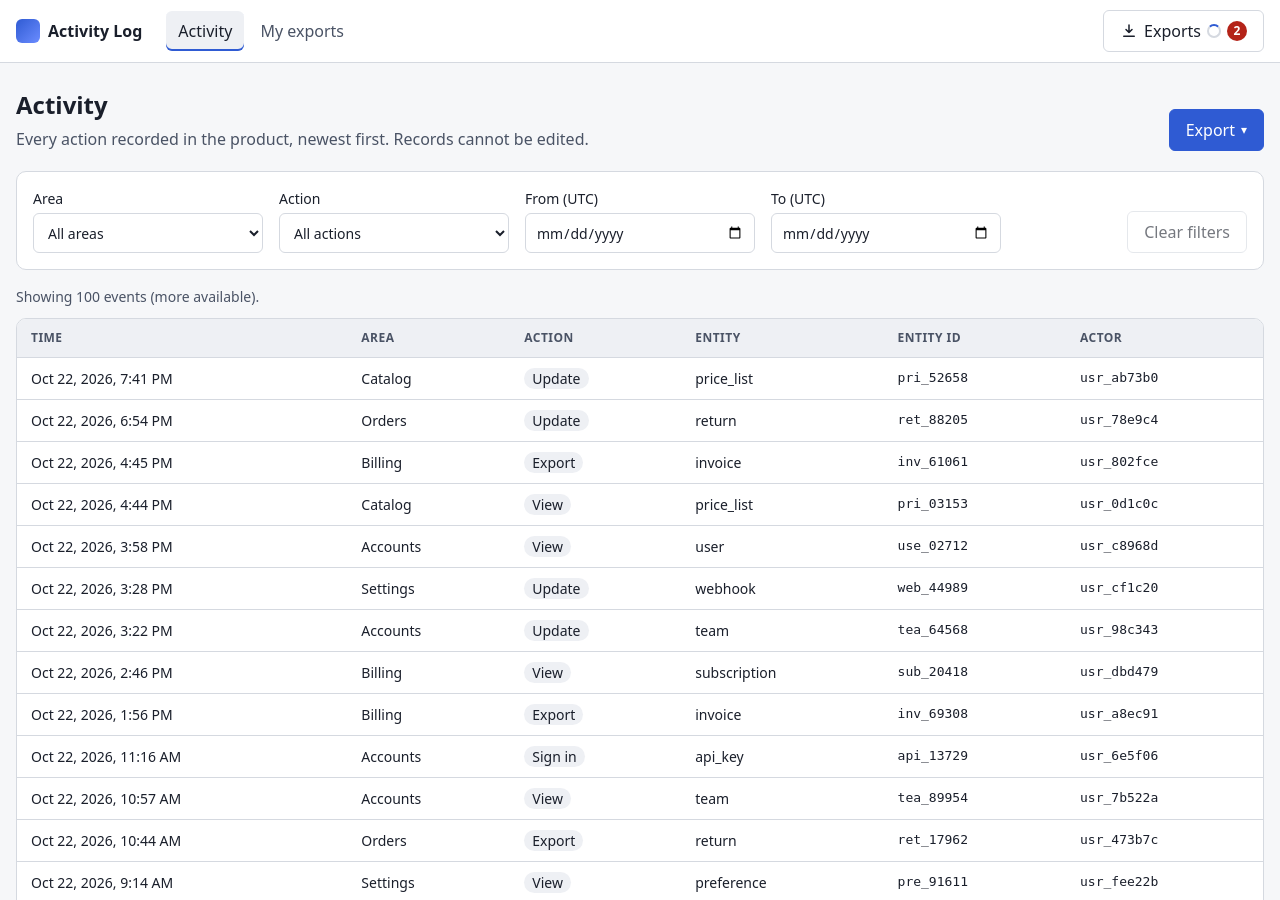
Test: Exports tray › shows statuses and multi-part progress, and marks finished items seen on open
The image size is (1280, 900).
Step 1. Click the button with aria-label "open my exports, 2 unread" → (1184, 31), box [1103,10,1264,52]
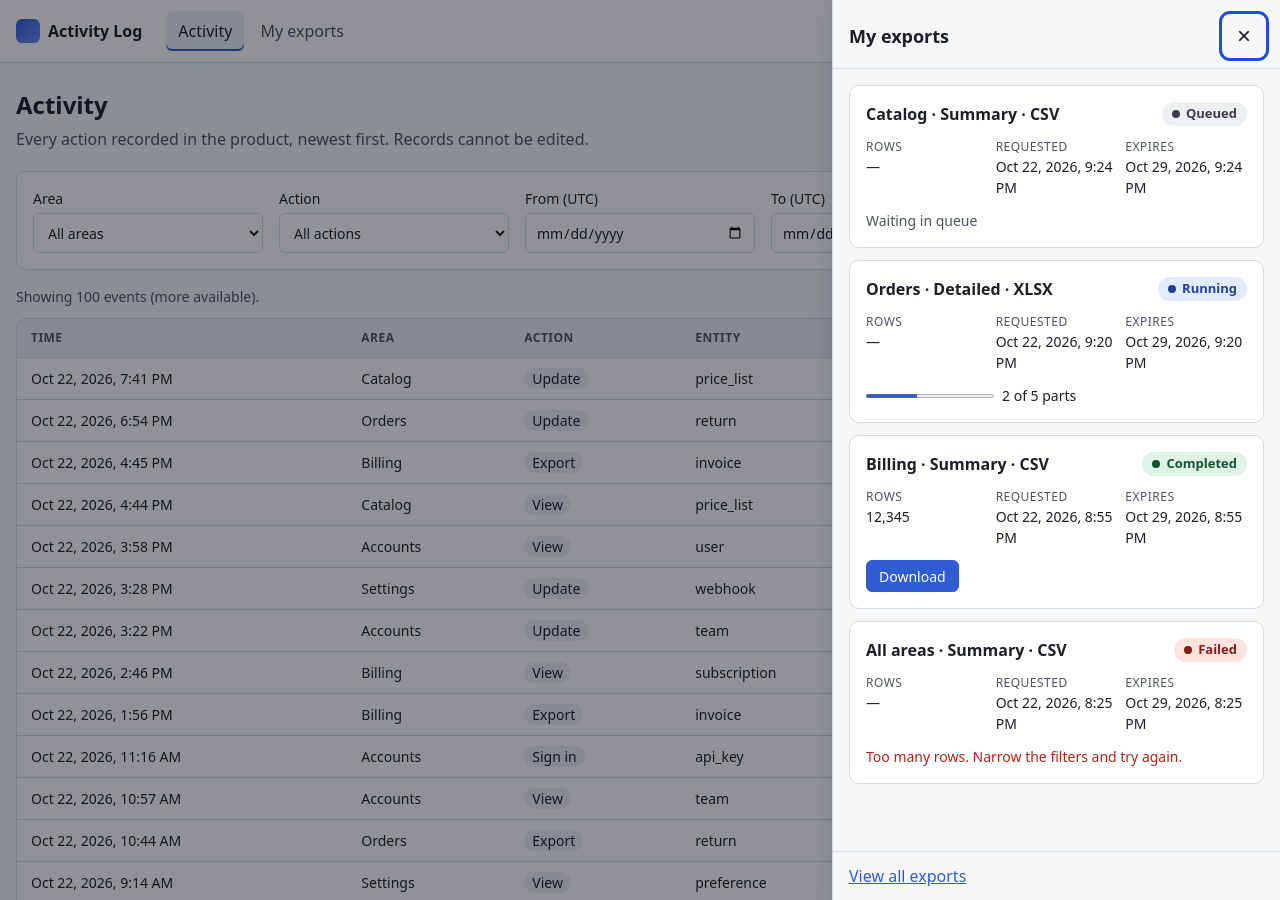
Step 2. Press Escape
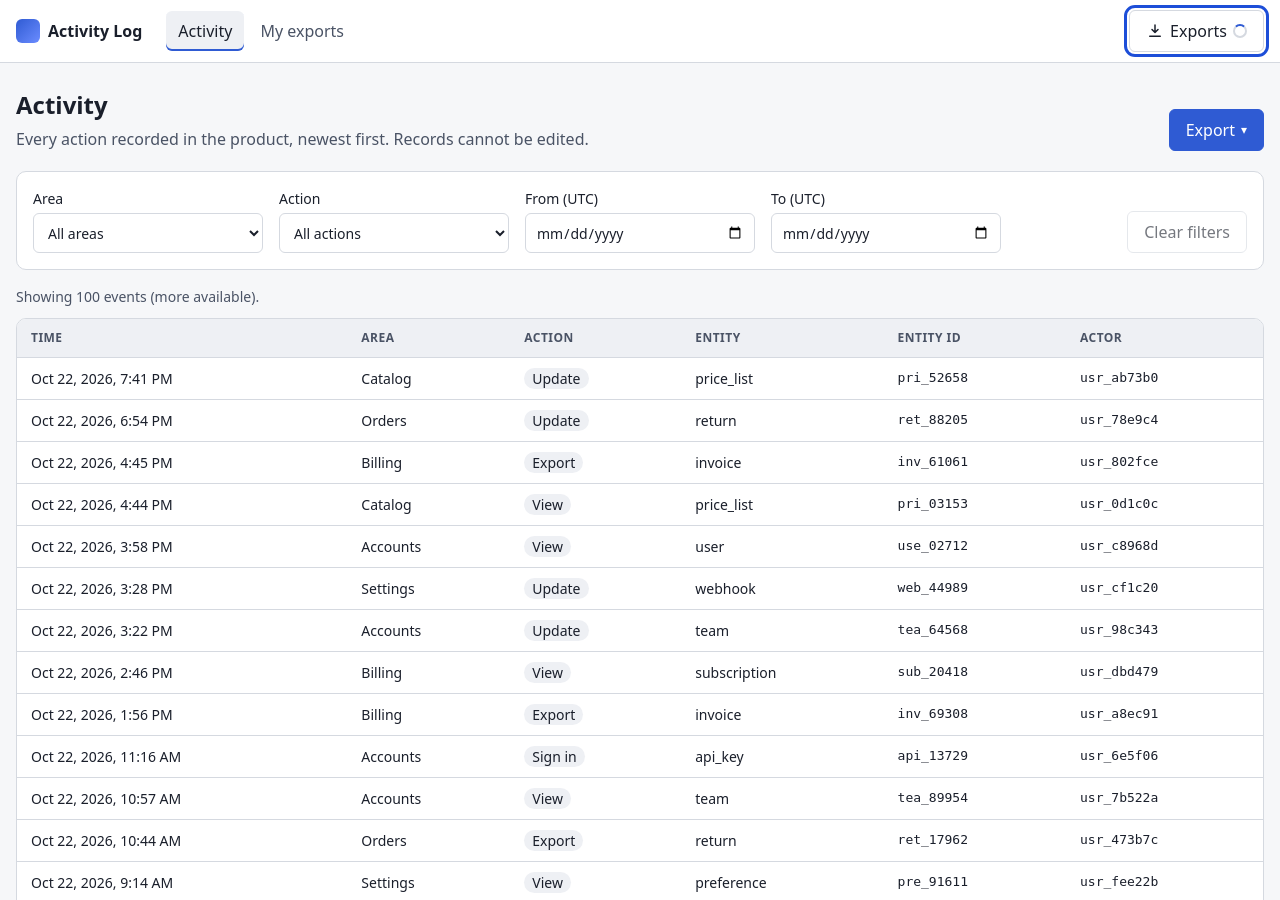
Now the dialog is gone
